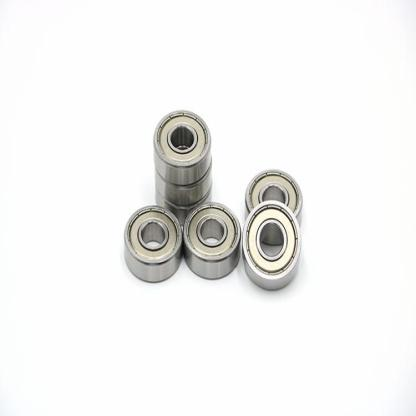FOD: (241, 201, 303, 293), (119, 201, 184, 284), (182, 197, 243, 281), (150, 107, 212, 186), (243, 164, 304, 231)
